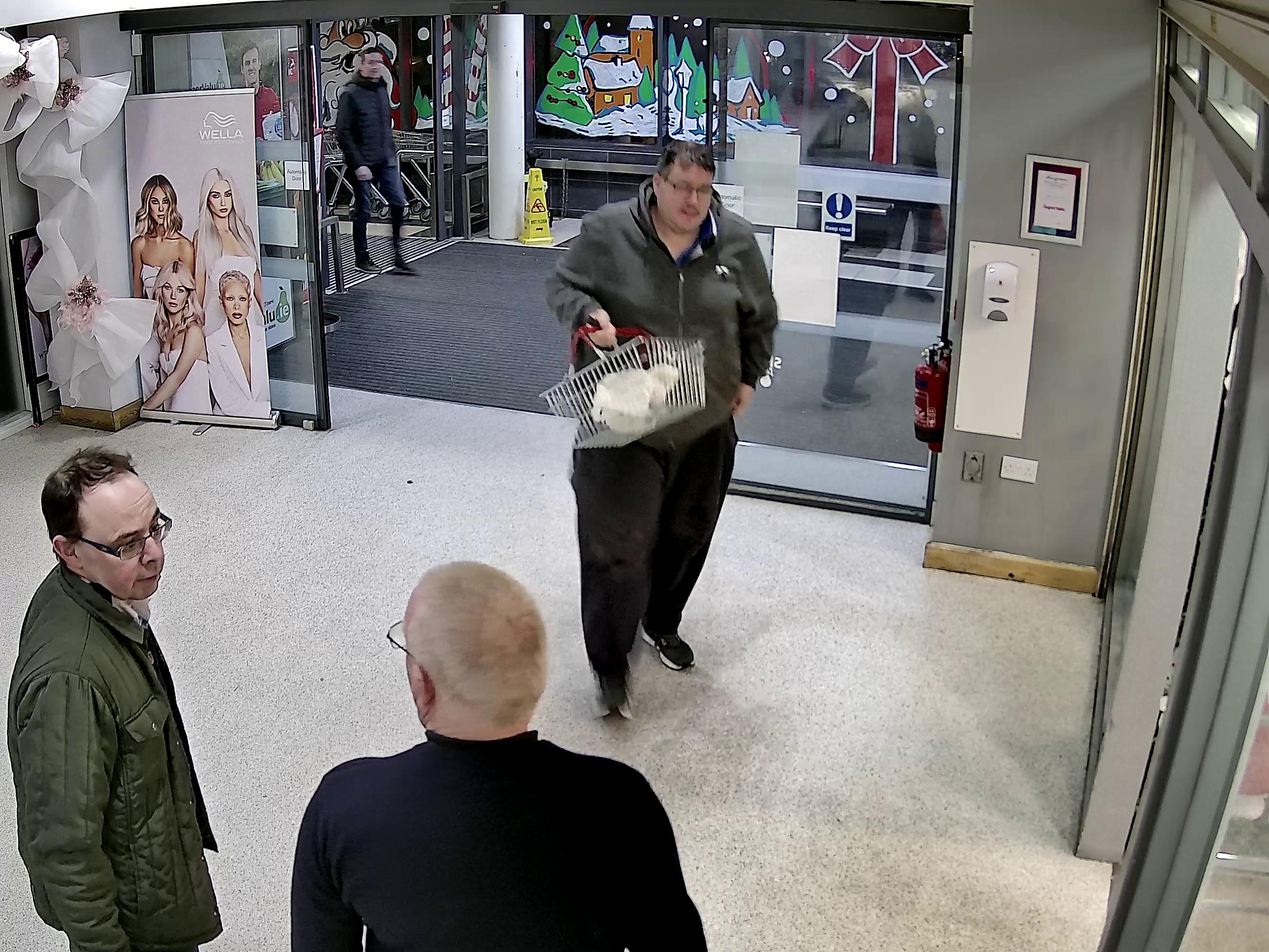empty-basket: (543, 326, 706, 450)
empty-shopping-bags: (593, 364, 681, 436)
person: (546, 141, 779, 718)
person-with-basket-trolly-and-shopping-bag: (544, 141, 779, 721)
